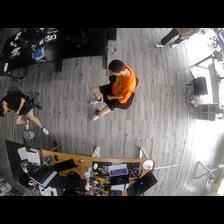normal: (85, 58, 140, 122), (1, 88, 52, 144)
